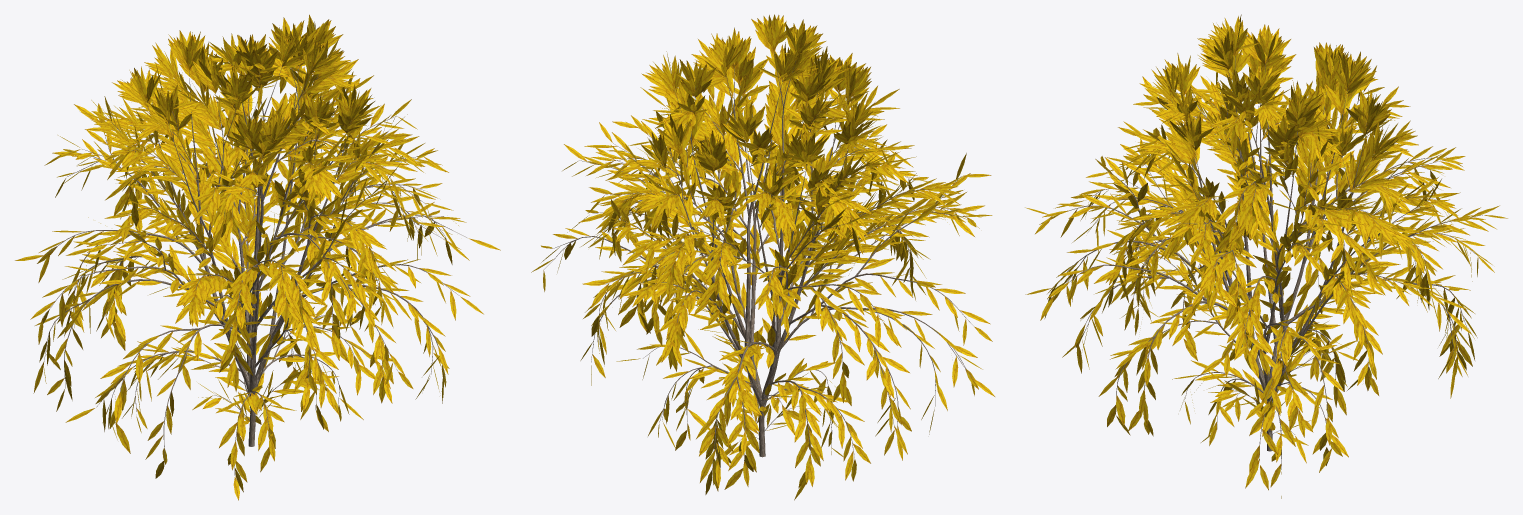
The model's file is plant4.fbx.
The picture shows the model from 3 angles, left to right: view 1: azimuth 30°, elevation 25°; view 2: azimuth 150°, elevation 25°; view 3: azimuth 270°, elevation 25°; orthographic projection.
Visible parts, largest first — view 1: plant4; view 2: plant4; view 3: plant4.
Boxes of the visible parts, x1,y1,x2,y2 form: plant4: [15, 14, 500, 500]; plant4: [531, 14, 994, 500]; plant4: [1025, 14, 1507, 498].
Bounding box in the file's own units: 612 × 564 × 562.
Materials: 2 (2 with a texture image).
